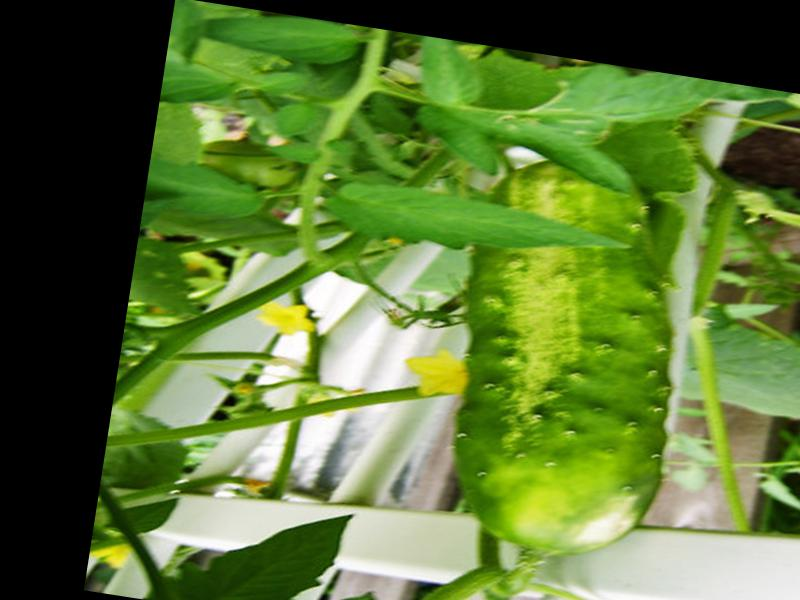Cucumber: (438, 157, 703, 568)
